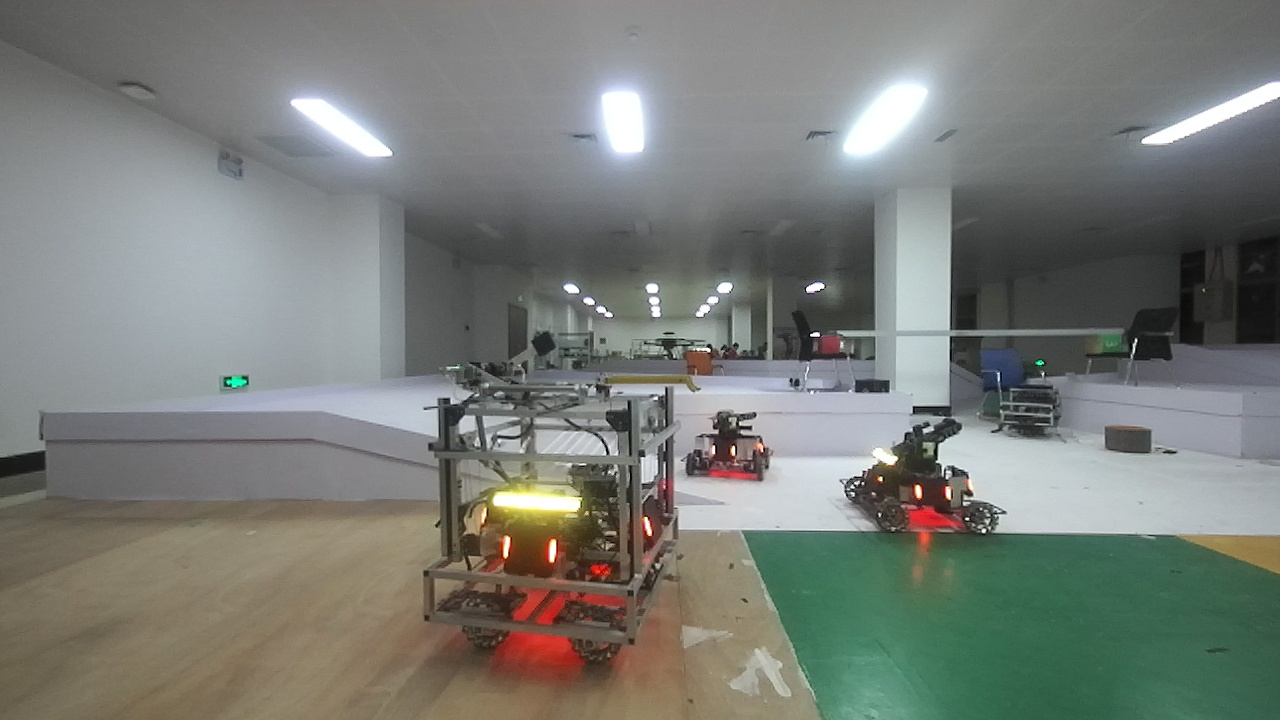car: (420, 366, 678, 679), (842, 423, 998, 542), (681, 395, 777, 484)
